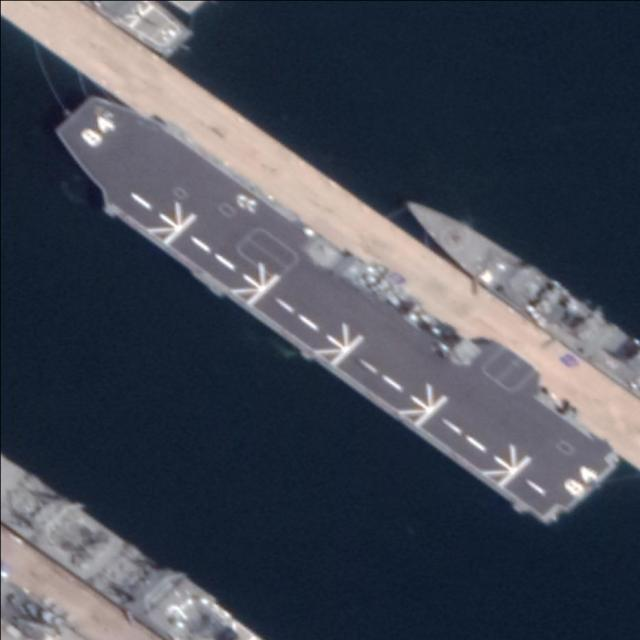Destroyer: (37, 69, 622, 540)
